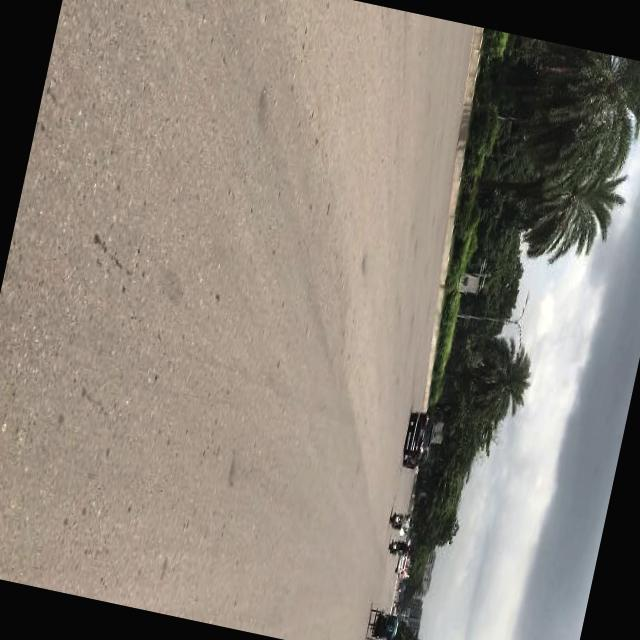bus: (400, 563, 411, 584)
car: (398, 411, 438, 476), (394, 558, 406, 576)
motorcycle: (363, 608, 400, 640), (388, 510, 414, 537), (385, 538, 411, 562)
